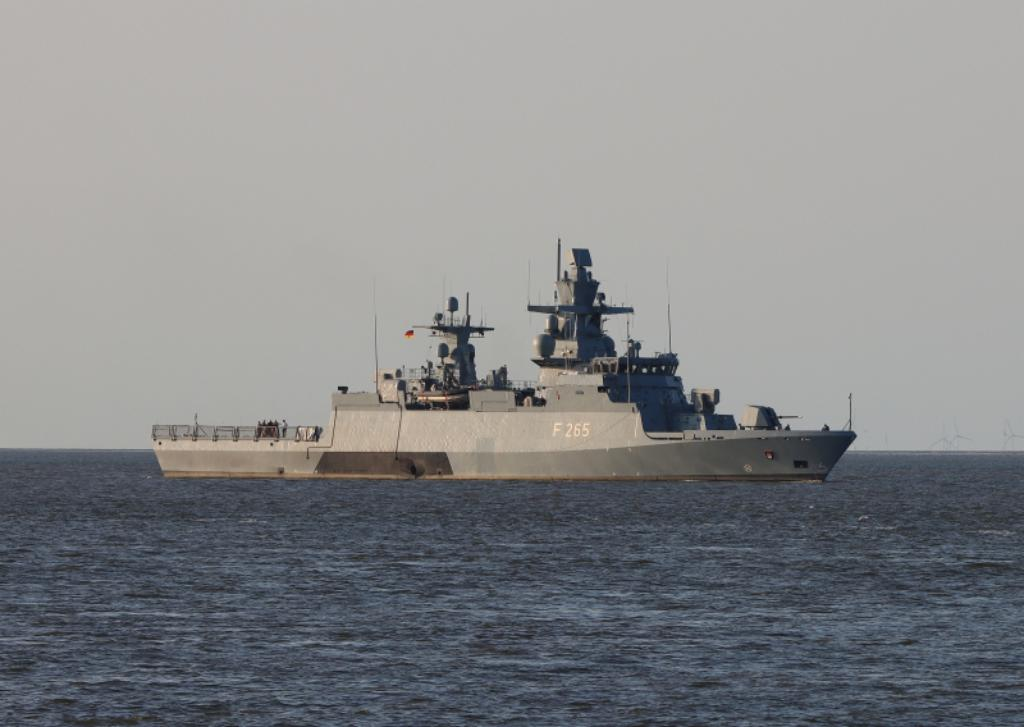Warship: (150, 232, 860, 482)
